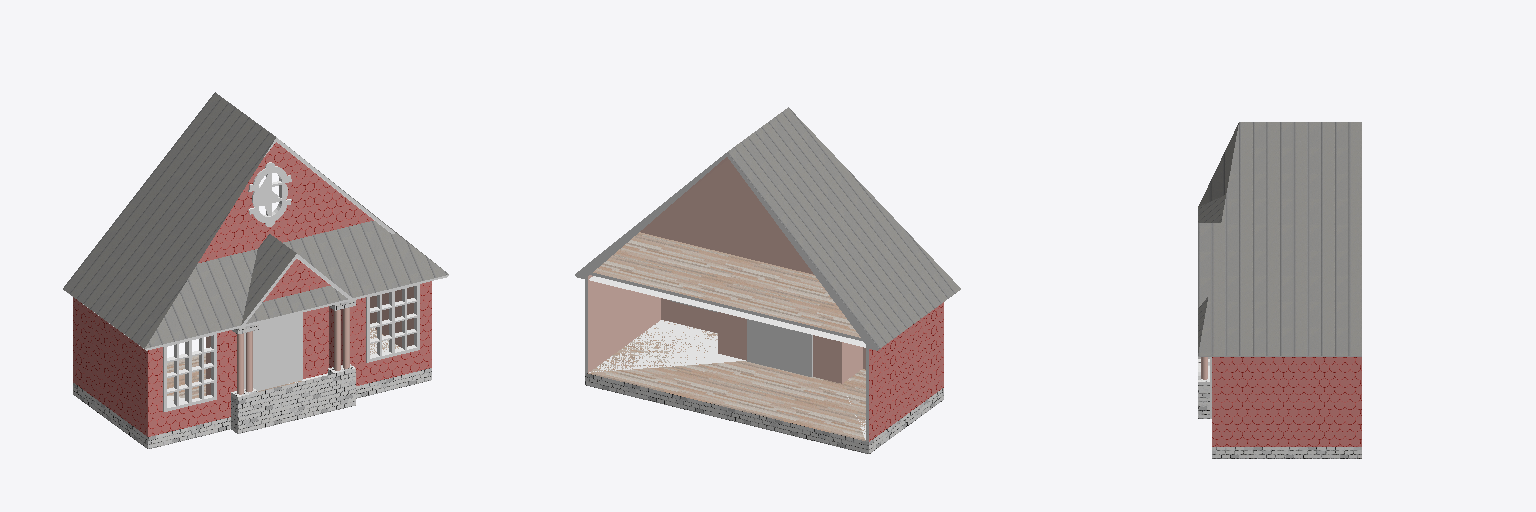
3 renders of one model, left to right at view 1: azimuth 30°, elevation 25°; view 2: azimuth 150°, elevation 25°; view 3: azimuth 270°, elevation 25°, orthographic.
Visible parts, largest first — view 1: Mesh19 roof1 Dollhouse__Cape_Cottage1 Model, Mesh17 walls1 Dollhouse__Cape_Cottage1 Model, Mesh9 base1 Dollhouse__Cape_Cottage1 Model, Mesh20 front_door1 Dollhouse__Cape_Cottage1 Model, Mesh16 oval_window1 walls1 Dollhouse__Cape_Cottage1 Model, Mesh1 base1_1 base1 Dollhouse__Cape_Cottage1 Model, Mesh15 window4 walls1 Dollhouse__Cape_Cottage1 Model, Mesh13 window2 walls1 Dollhouse__Cape_Cottage1 Model, Mesh12 window1 walls1 Dollhouse__Cape_Cottage1 Model, Mesh14 window3 walls1 Dollhouse__Cape_Cottage1 Model, Mesh8 base1_2_2 base1 Dollhouse__Cape_Cottage1 Model; view 2: Mesh17 walls1 Dollhouse__Cape_Cottage1 Model, Mesh19 roof1 Dollhouse__Cape_Cottage1 Model, Mesh9 base1 Dollhouse__Cape_Cottage1 Model, Mesh18 floor1 Dollhouse__Cape_Cottage1 Model, Mesh20 front_door1 Dollhouse__Cape_Cottage1 Model, Mesh2 base1_2 base1 Dollhouse__Cape_Cottage1 Model, Mesh8 base1_2_2 base1 Dollhouse__Cape_Cottage1 Model; view 3: Mesh19 roof1 Dollhouse__Cape_Cottage1 Model, Mesh17 walls1 Dollhouse__Cape_Cottage1 Model, Mesh7 base1_2_1 base1 Dollhouse__Cape_Cottage1 Model, Mesh9 base1 Dollhouse__Cape_Cottage1 Model.
Boxes of the visible parts, <box> form: Mesh19 roof1 Dollhouse__Cape_Cottage1 Model: <box>63,92,448,350</box>; Mesh17 walls1 Dollhouse__Cape_Cottage1 Model: <box>73,142,431,436</box>; Mesh9 base1 Dollhouse__Cape_Cottage1 Model: <box>73,328,431,439</box>; Mesh20 front_door1 Dollhouse__Cape_Cottage1 Model: <box>244,313,302,390</box>; Mesh16 oval_window1 walls1 Dollhouse__Cape_Cottage1 Model: <box>248,162,291,226</box>; Mesh1 base1_1 base1 Dollhouse__Cape_Cottage1 Model: <box>148,371,431,448</box>; Mesh15 window4 walls1 Dollhouse__Cape_Cottage1 Model: <box>366,290,393,362</box>; Mesh13 window2 walls1 Dollhouse__Cape_Cottage1 Model: <box>163,340,189,411</box>; Mesh12 window1 walls1 Dollhouse__Cape_Cottage1 Model: <box>190,334,216,405</box>; Mesh14 window3 walls1 Dollhouse__Cape_Cottage1 Model: <box>394,284,419,355</box>; Mesh8 base1_2_2 base1 Dollhouse__Cape_Cottage1 Model: <box>73,386,147,448</box>; Mesh17 walls1 Dollhouse__Cape_Cottage1 Model: <box>585,159,943,441</box>; Mesh19 roof1 Dollhouse__Cape_Cottage1 Model: <box>575,107,960,350</box>; Mesh9 base1 Dollhouse__Cape_Cottage1 Model: <box>585,321,943,444</box>; Mesh18 floor1 Dollhouse__Cape_Cottage1 Model: <box>587,232,868,342</box>; Mesh20 front_door1 Dollhouse__Cape_Cottage1 Model: <box>747,319,812,376</box>; Mesh2 base1_2 base1 Dollhouse__Cape_Cottage1 Model: <box>585,376,868,453</box>; Mesh8 base1_2_2 base1 Dollhouse__Cape_Cottage1 Model: <box>869,391,943,453</box>; Mesh19 roof1 Dollhouse__Cape_Cottage1 Model: <box>1198,122,1361,356</box>; Mesh17 walls1 Dollhouse__Cape_Cottage1 Model: <box>1212,357,1361,446</box>; Mesh7 base1_2_1 base1 Dollhouse__Cape_Cottage1 Model: <box>1212,450,1361,458</box>; Mesh9 base1 Dollhouse__Cape_Cottage1 Model: <box>1198,357,1361,449</box>.
Bounding box in the file's own units: 25.77 × 21.6 × 12.
Materials: 6 (4 with a texture image).